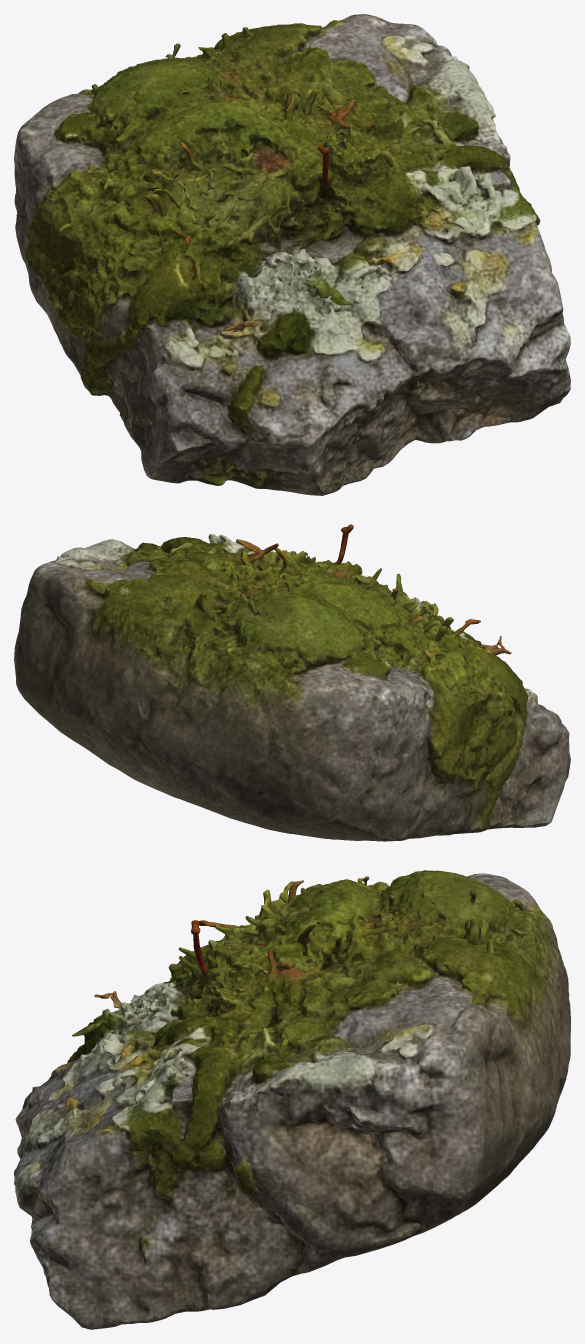
Rendered from mossy-granite-slab-v21-lod.glb.
3 renders of one model, top to bottom at view 1: azimuth 30°, elevation 25°; view 2: azimuth 150°, elevation 25°; view 3: azimuth 270°, elevation 25°, orthographic. The views are drawn at different scales.
Parts seen in each view (by area): view 1: world; view 2: world; view 3: world.
Part boxes in pixels (<box>): world: <box>14,14,570,495</box>; world: <box>14,524,570,841</box>; world: <box>14,870,570,1329</box>.
Size of the model in its own units: 0.2798 by 0.1941 by 0.2752.
Materials: 1 (1 with a texture image).
